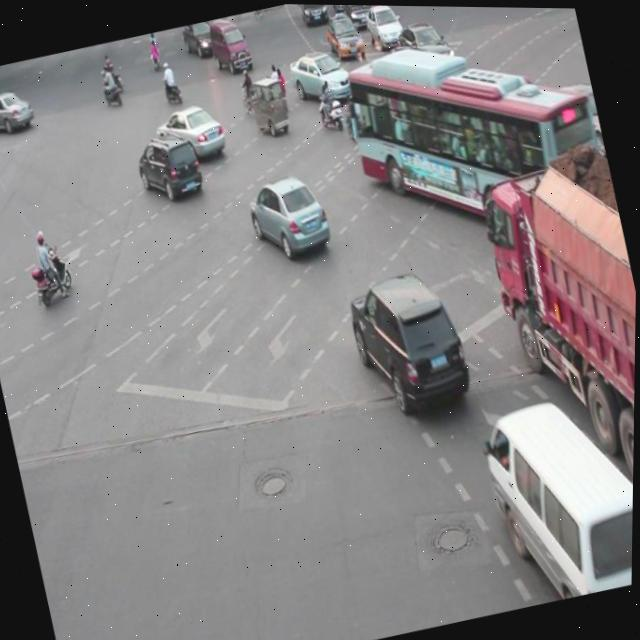bus: (475, 155, 638, 506)
car: (342, 259, 476, 418), (241, 166, 334, 262), (131, 125, 206, 205), (152, 96, 228, 168), (549, 73, 607, 159), (386, 42, 455, 114), (286, 43, 356, 110), (393, 14, 454, 72)
truck: (472, 378, 636, 608)
van: (340, 12, 609, 255)
